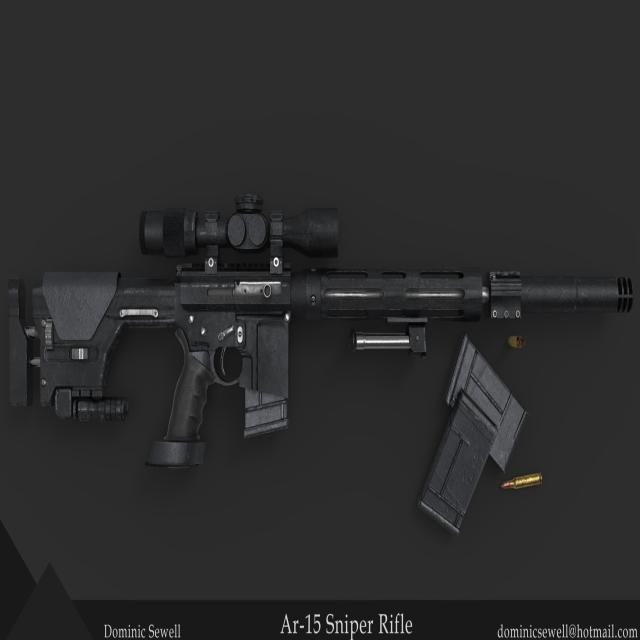Rifle: (5, 196, 637, 468)
